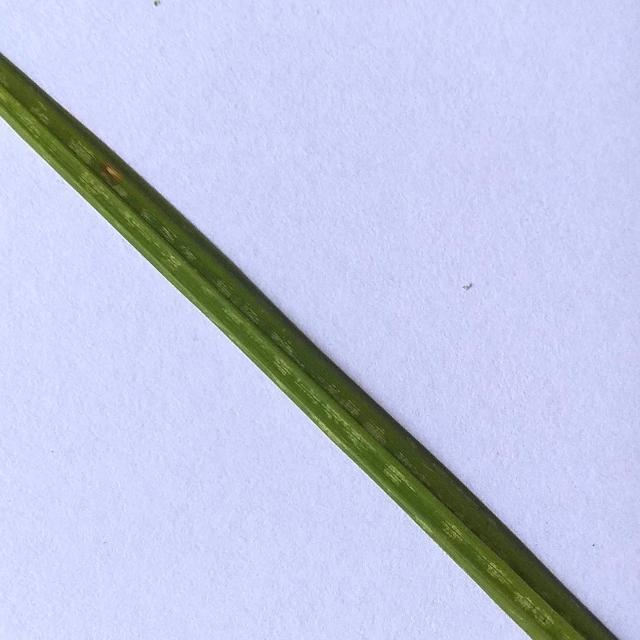Blast: (95, 160, 128, 185)
